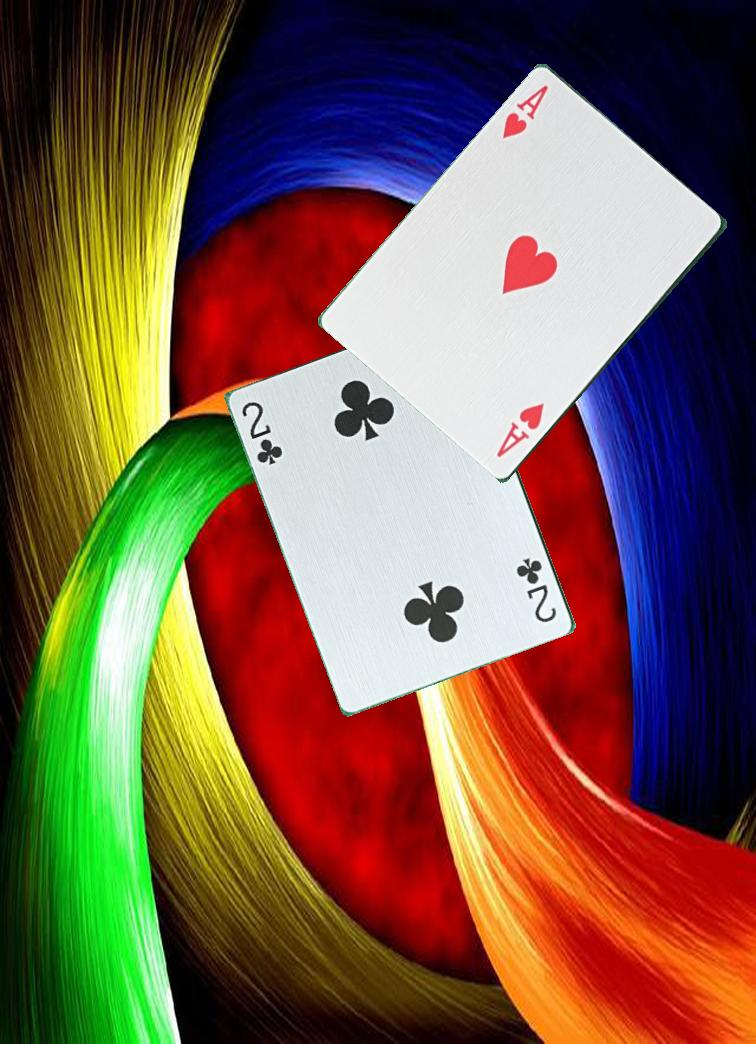2c: (238, 398, 286, 469), (515, 554, 560, 626)
ah: (495, 80, 552, 141), (493, 398, 548, 460)
